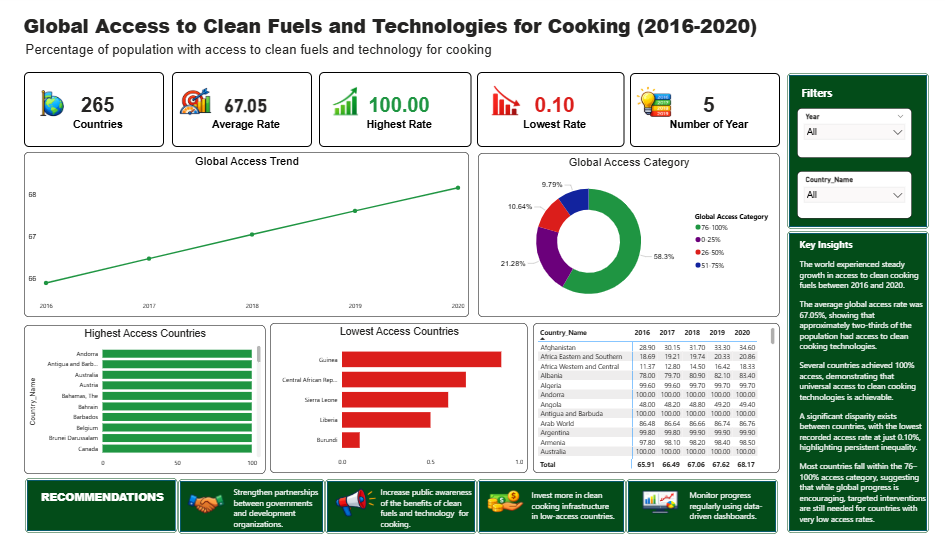

What the dashboard file says about the page in this screenshot:
{"tool":"powerbi","page":{"name":"Page 1","canvas":[1920,1080],"ordinal":0},"visuals":[{"type":"textbox","box":[1026,374,260,106],"z":0},{"type":"shape","box":[1592,146,284,312],"z":1000},{"type":"card","fields":{"Values":["Count(mdi_access_to_fuel.Country_Name)"]},"box":[66,144,280,150],"z":2000},{"type":"lineChart","title":"Global Access Trend","fields":{"Category":["MDI access to fuel.Year"],"Y":["Avg(MDI access to fuel.Indicator_Value)"]},"box":[65.6,304.4,890,330],"z":3000},{"type":"donutChart","title":"Global Access Category","fields":{"Y":["CountNonNull(mdi_access_to_fuel.Access Category)"],"Category":["mdi_access_to_fuel.Access Category"]},"box":[973.1,306.9,602.5,327.5],"z":4000},{"type":"clusteredBarChart","title":"Highest Access Countries","fields":{"Y":["Max(MDI access to fuel.Indicator_Value)"],"Category":["mdi_access_to_fuel.Country_Name"]},"box":[65.6,649.4,482.5,297.5],"z":5000},{"type":"pivotTable","fields":{"Columns":["MDI access to fuel.Year"],"Values":["Avg(MDI access to fuel.Indicator_Value)"],"Rows":["mdi_access_to_fuel.Country_Name"]},"box":[1083.1,646.9,492.5,300],"z":6000},{"type":"card","fields":{"Values":["Min(mdi_access_to_fuel.Indicator_Value)"]},"box":[971.4,144.7,295,150],"z":7000},{"type":"card","fields":{"Values":["Count(mdi_access_to_fuel.Year)"]},"box":[1278,146,300,148],"z":8000},{"type":"textbox","box":[59.7,20.4,1784,70],"z":9000},{"type":"textbox","box":[64,78,1604,54],"z":10000},{"type":"slicer","fields":{"Values":["MDI access to fuel.Year"]},"box":[1612.5,216.1,230,100],"z":11000},{"type":"slicer","fields":{"Values":["mdi_access_to_fuel.Country_Name"]},"box":[1612.5,341.1,230,95],"z":12000},{"type":"clusteredBarChart","title":"Lowest Access Countries","fields":{"Y":["Min(MDI access to fuel.Indicator_Value)"],"Category":["mdi_access_to_fuel.Country_Name"]},"box":[558.1,646.9,515,300],"z":13000},{"type":"card","fields":{"Values":["Avg(mdi_access_to_fuel.Indicator_Value)"]},"box":[361.4,144.7,280,150],"z":14000},{"type":"card","fields":{"Values":["Max(mdi_access_to_fuel.Indicator_Value)"]},"box":[656.4,144.7,305,150],"z":15000},{"type":"shape","box":[1592,462,284,604],"z":17000},{"type":"textbox","box":[1612,470,264,596],"z":18000},{"type":"textbox","box":[1616.4,148.7,260,56.7],"z":19000},{"type":"shape","box":[374.1,957.9,294,110],"z":20000},{"type":"shape","box":[668.1,957.9,304,110],"z":21000},{"type":"shape","box":[1270.1,957.9,304,110],"z":22000},{"type":"image","box":[390,956,84,94],"z":23000},{"type":"shape","box":[972.1,957.9,298,110],"z":24000},{"type":"image","box":[1296,966,90,74],"z":25000},{"type":"image","box":[668,966,122,74],"z":26000},{"type":"image","box":[968,974,126,60],"z":27000},{"type":"textbox","box":[1075,974.4,177.5,92.5],"z":28000},{"type":"textbox","box":[774,968,200,94],"z":29000},{"type":"textbox","box":[1391.4,974.4,165,87.5],"z":30000},{"type":"textbox","box":[480.3,967.4,187.8,94.4],"z":31000},{"type":"shape","box":[68.1,956.9,305,110],"z":32000},{"type":"image","box":[972.5,166.5,122.5,70],"z":33000},{"type":"image","box":[670,169,72.5,65],"z":34000},{"type":"image","box":[370,166.5,80,72.5],"z":35000},{"type":"image","box":[85,166.5,80,80],"z":36000},{"type":"image","box":[1277.5,166.5,107.5,77.5],"z":37000},{"type":"textbox","box":[83.1,974.4,277.5,60],"z":38000}]}

Visuals, with their boxes in screenshot pixels (x1, y1, x2, y2), scaled from the page's 1920x1080 canvas onto the 945x534 screenshot:
textbox: 505/185/633/237
shape: 784/72/923/226
card - Count(mdi_access_to_fuel.Country_Name): 32/71/170/145
"Global Access Trend" lineChart: 32/151/470/314
"Global Access Category" donutChart: 479/152/775/314
"Highest Access Countries" clusteredBarChart: 32/321/270/468
pivotTable - MDI access to fuel.Year x Avg(MDI access to fuel.Indicator_Value): 533/320/775/468
card - Min(mdi_access_to_fuel.Indicator_Value): 478/72/623/146
card - Count(mdi_access_to_fuel.Year): 629/72/777/145
textbox: 29/10/907/45
textbox: 32/39/821/65
slicer - MDI access to fuel.Year: 794/107/907/156
slicer - mdi_access_to_fuel.Country_Name: 794/169/907/216
"Lowest Access Countries" clusteredBarChart: 275/320/528/468
card - Avg(mdi_access_to_fuel.Indicator_Value): 178/72/316/146
card - Max(mdi_access_to_fuel.Indicator_Value): 323/72/473/146
shape: 784/228/923/527
textbox: 793/232/923/527
textbox: 796/74/924/102
shape: 184/474/329/528
shape: 329/474/478/528
shape: 625/474/775/528
image: 192/473/233/519
shape: 478/474/625/528
image: 638/478/682/514
image: 329/478/389/514
image: 476/482/538/511
textbox: 529/482/616/528
textbox: 381/479/479/525
textbox: 685/482/766/525
textbox: 236/478/329/525
shape: 34/473/184/528
image: 479/82/539/117
image: 330/84/365/116
image: 182/82/221/118
image: 42/82/81/122
image: 629/82/682/121
textbox: 41/482/177/511
